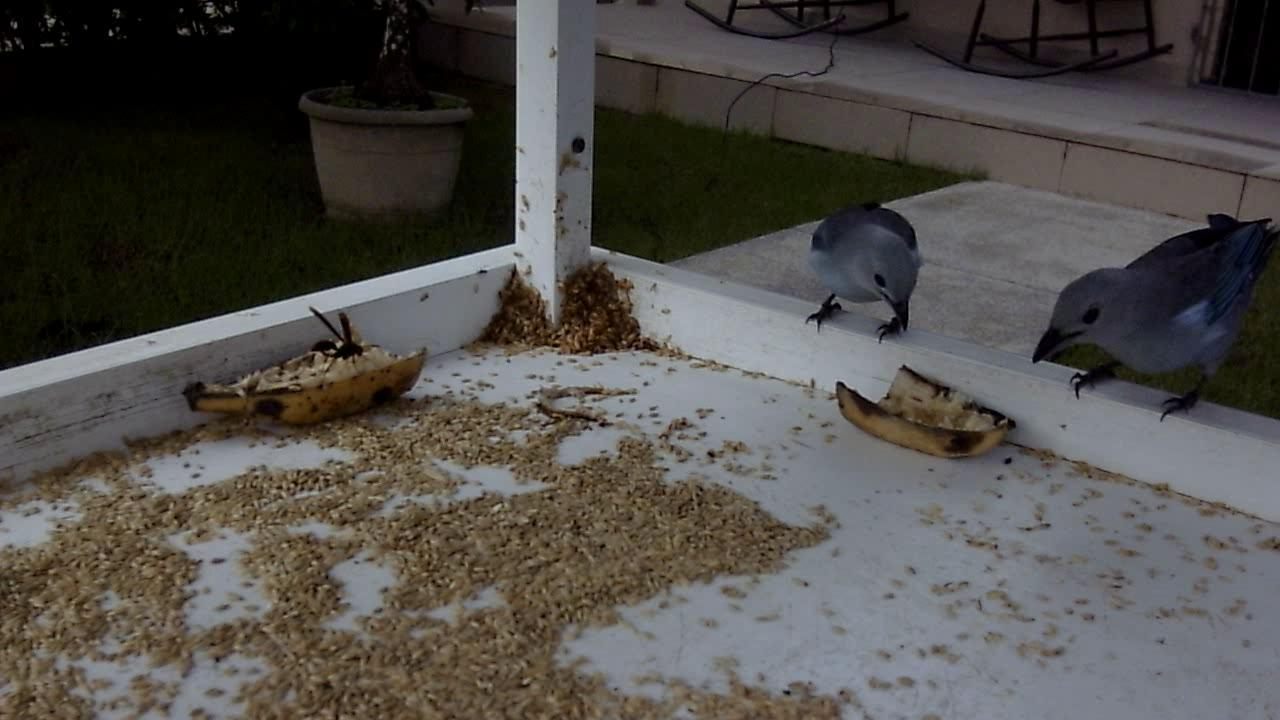sanhaco_da_amazonia: (1019, 201, 1278, 434), (797, 196, 928, 346)
